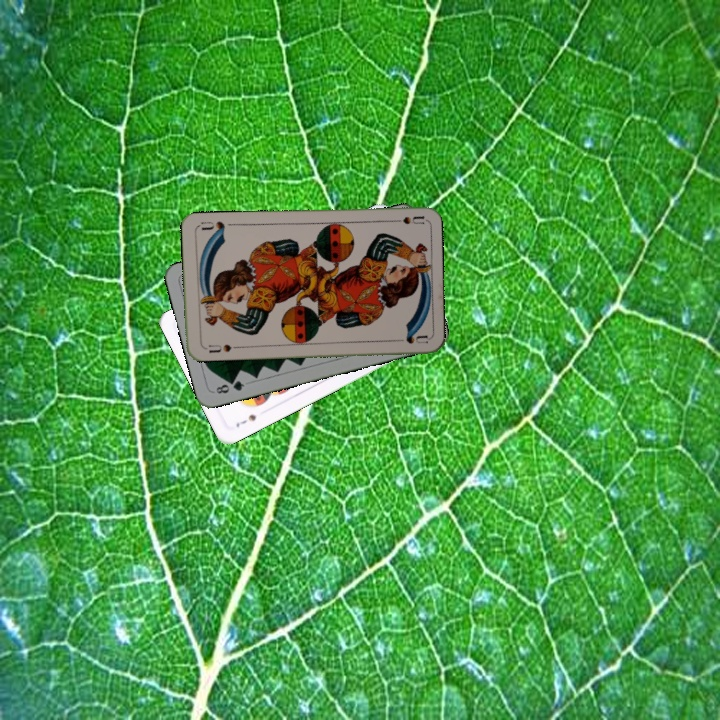G8: (212, 377, 247, 396)
S7: (232, 410, 259, 430)
SU: (385, 212, 425, 227), (205, 340, 234, 356)
